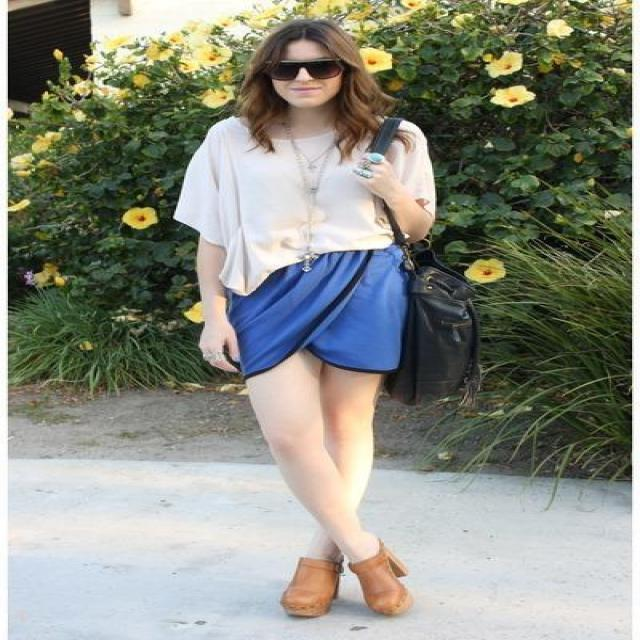bag: (379, 244, 490, 406)
shirt: (173, 104, 435, 294)
shoe: (280, 542, 411, 619)
skirt: (224, 243, 402, 377)
sunglass: (304, 54, 357, 88)
